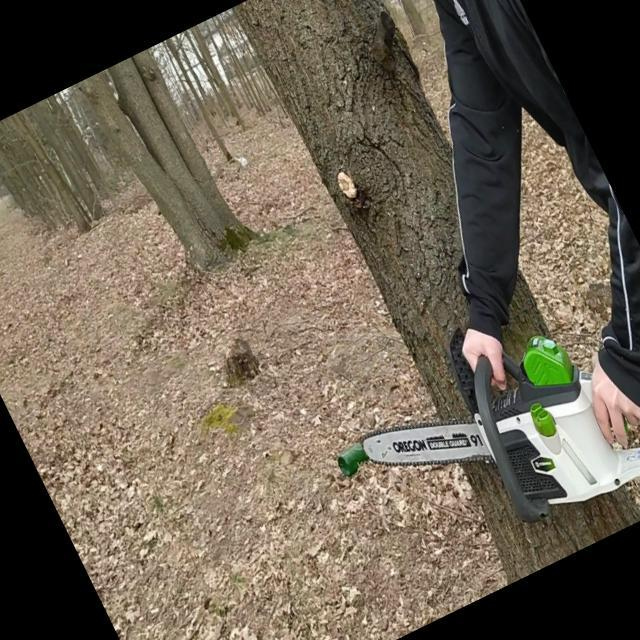Chainsaw: (335, 269, 640, 608)
